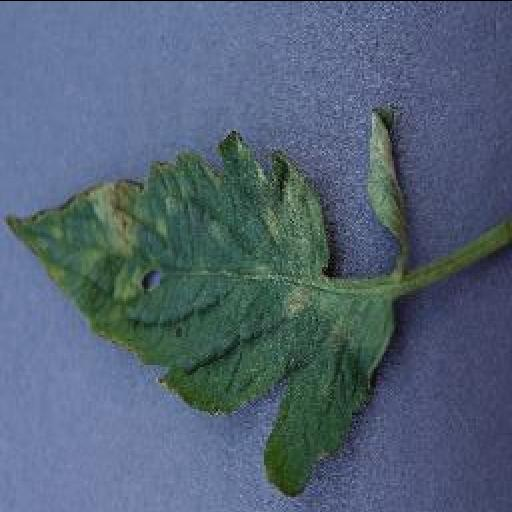disease_tomato: (3, 126, 393, 492)
